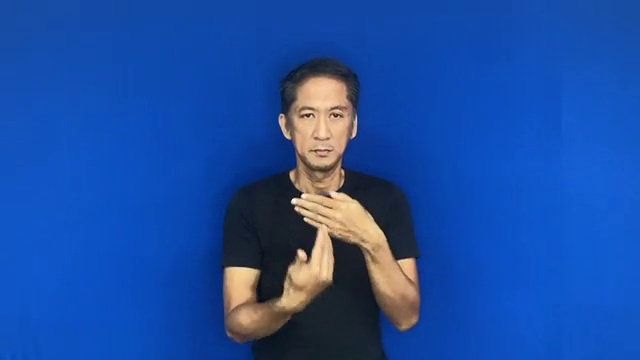bread: (270, 173, 385, 323)
